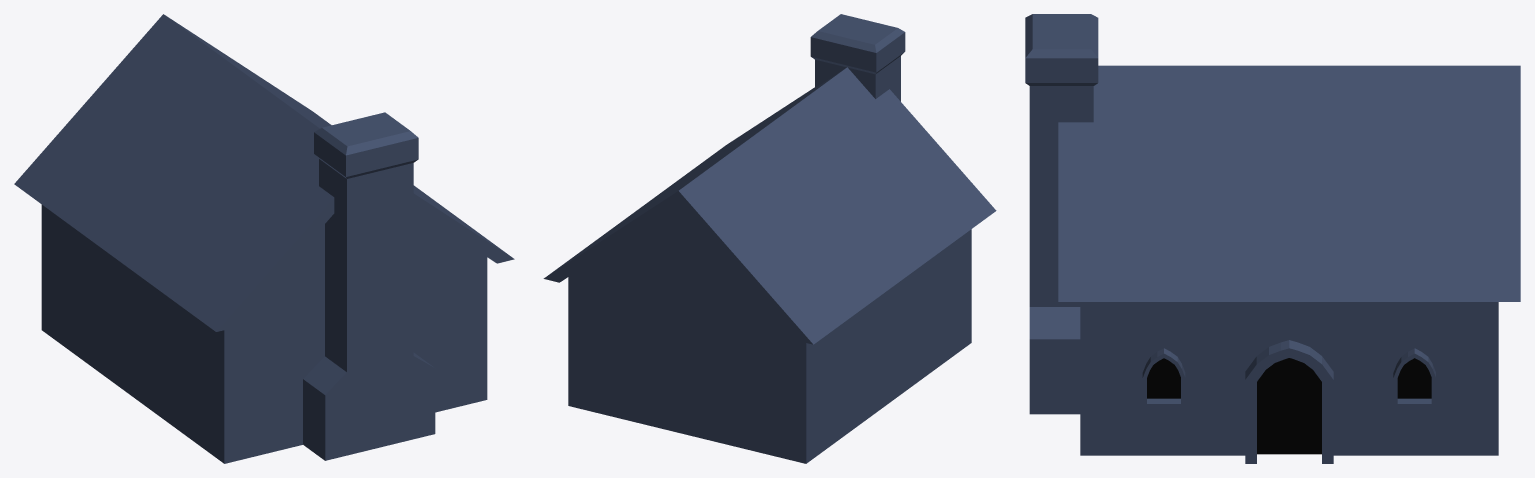
File: barracks01.glb
3 views of the same model, side by side, from view 1: azimuth 30°, elevation 25°; view 2: azimuth 150°, elevation 25°; view 3: azimuth 270°, elevation 25° (orthographic). The views are drawn at different scales.
Visible parts, largest first — view 1: Barracks01; view 2: Barracks01; view 3: Barracks01.
Part boxes in pixels (box(x1,y1,x2,y2)): Barracks01: box(14, 14, 514, 463); Barracks01: box(543, 14, 996, 463); Barracks01: box(1025, 14, 1520, 463).
Size of the model in its own units: 1.41 by 1.39 by 1.77.
